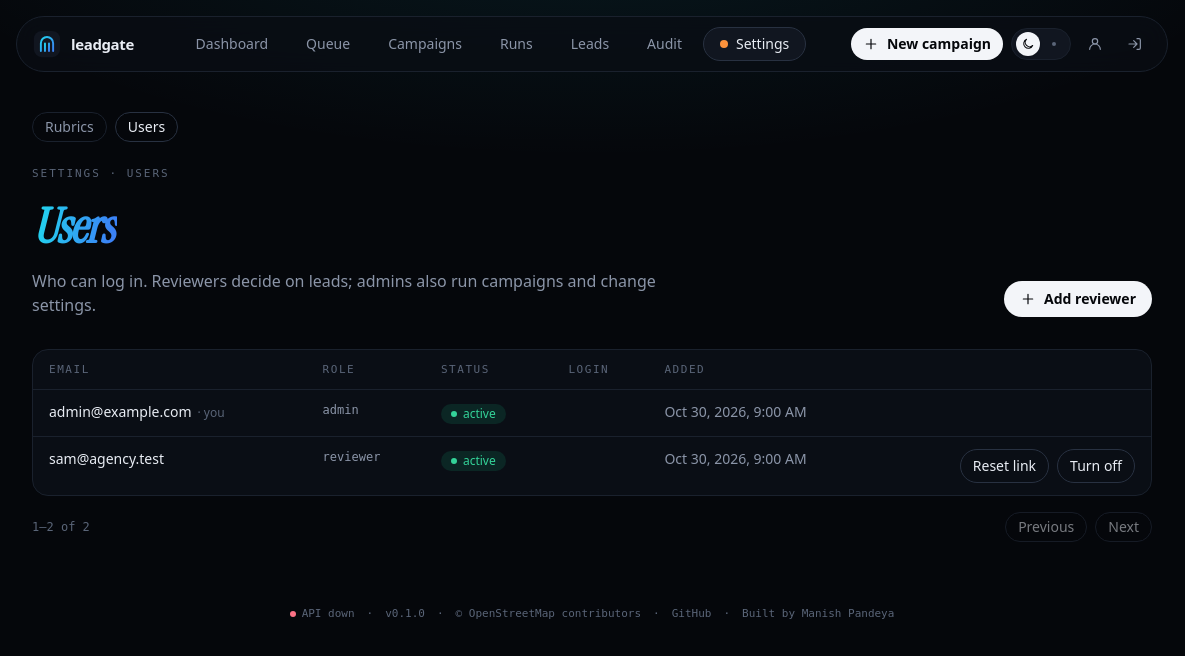
Test: UsersPage › asks before turning an account off, and shows the API's refusal
Click the button "Turn off" at (1096, 466), box [1057,449,1135,483]
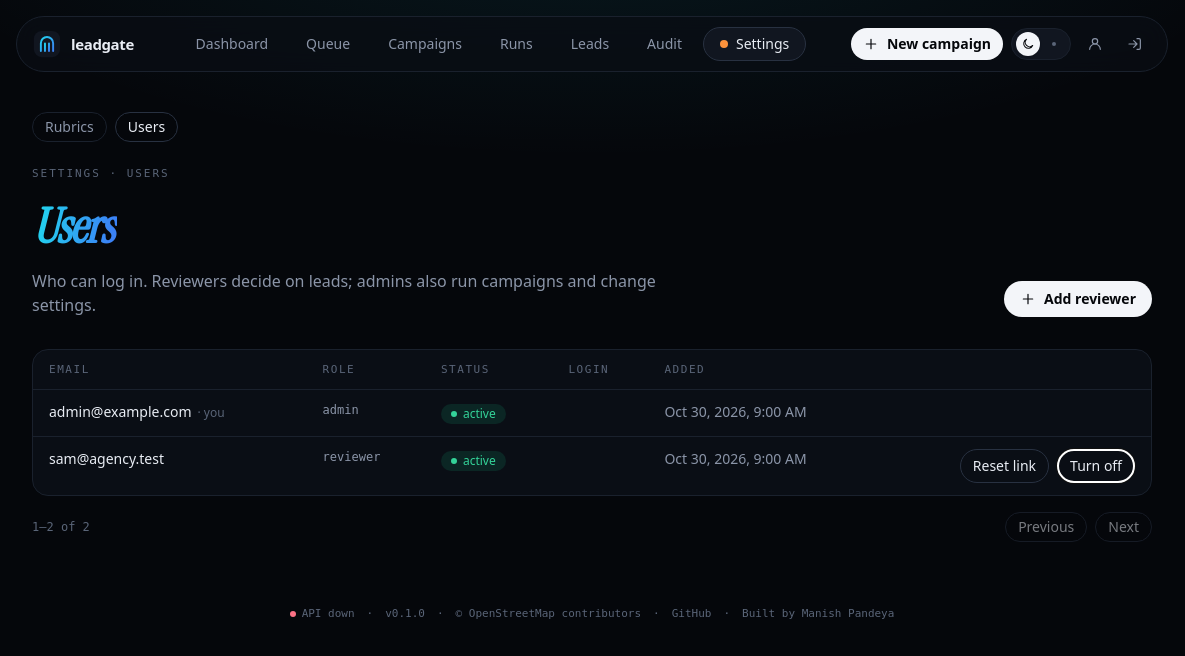
Click the button "Turn off" at (1096, 466), box [1057,449,1135,483]
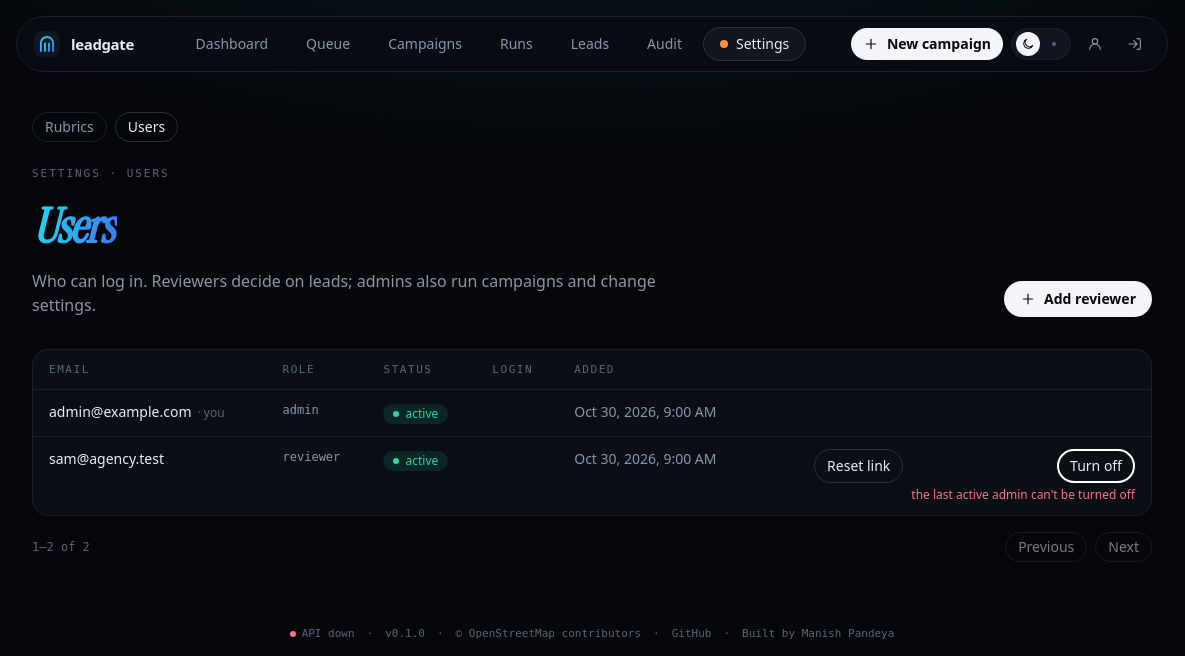
Result: the message reads "the last active admin can't be turned off" at [911,486,1135,503]
